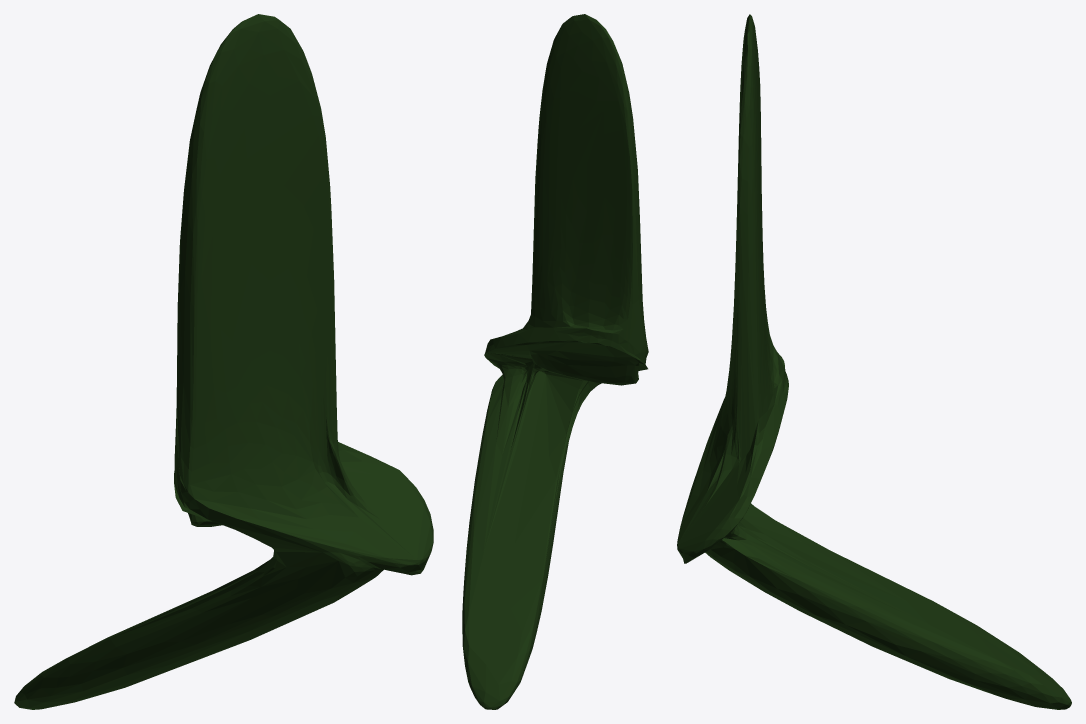
3 renders of one model, left to right at view 1: azimuth 30°, elevation 25°; view 2: azimuth 150°, elevation 25°; view 3: azimuth 270°, elevation 25°, orthographic. The views are drawn at different scales.
Parts seen in each view (by area): view 1: 261_Cube.1068; view 2: 261_Cube.1068; view 3: 261_Cube.1068.
Part boxes in pixels (bbox=[...]): 261_Cube.1068: bbox=[14, 14, 433, 709]; 261_Cube.1068: bbox=[462, 14, 648, 709]; 261_Cube.1068: bbox=[677, 14, 1071, 709].
Size of the model in its own units: 5.47 by 18.04 by 9.08.
